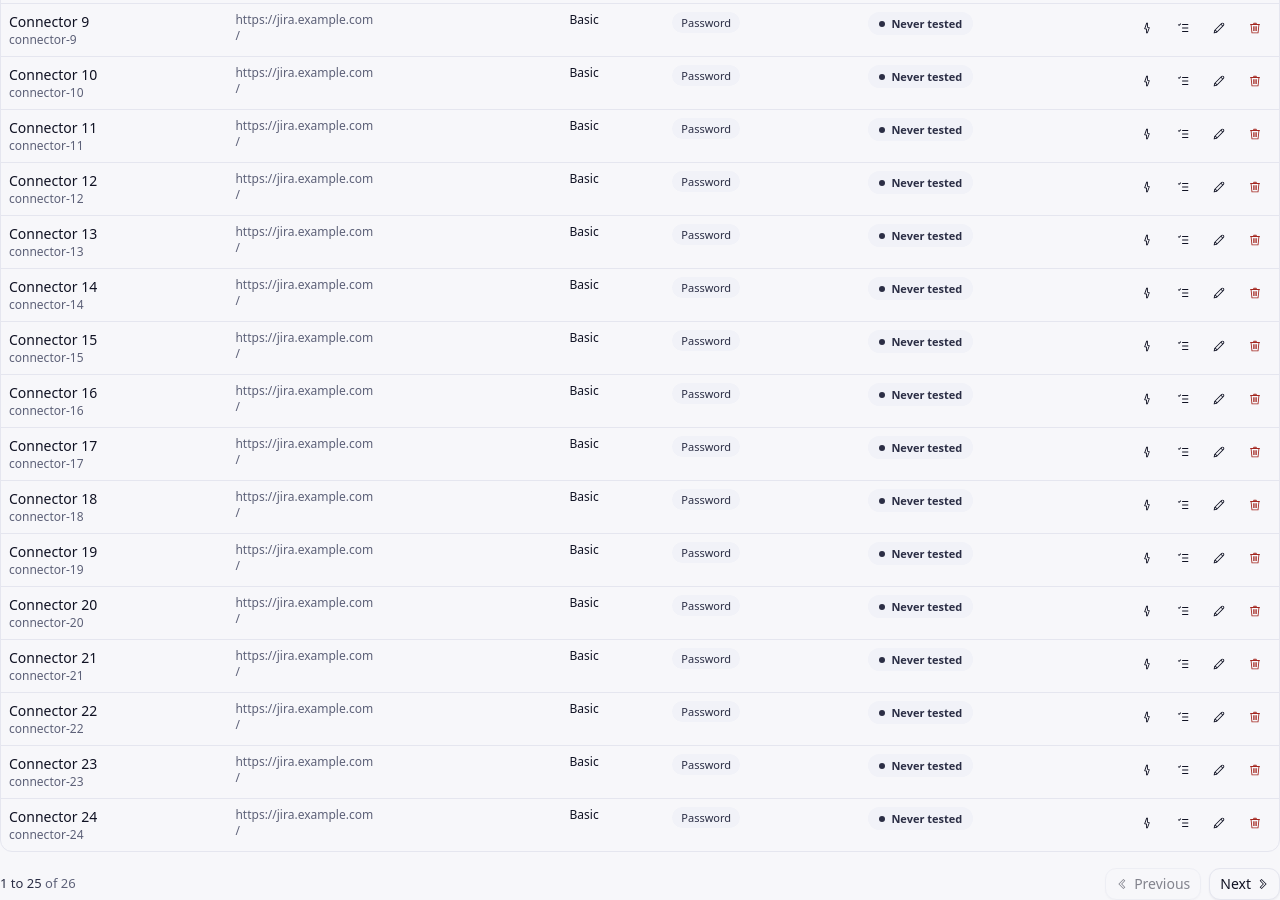
it: the list › steps back a page after deleting the only row on a later page
(page scrolled)
Click the button "Next". click: (1245, 884)
box: [1209,868,1279,899]
(page scrolled)
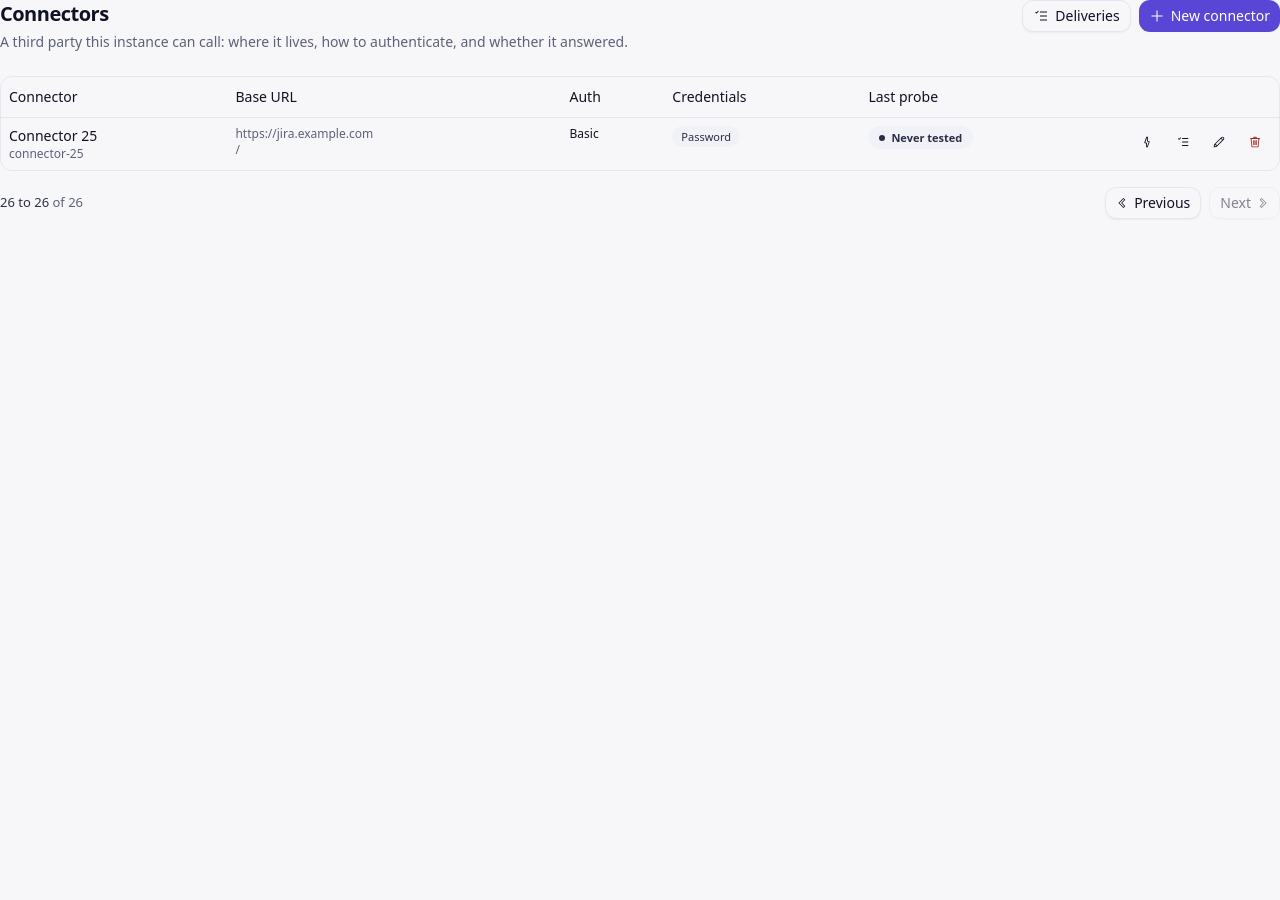
Click the button named "Delete Connector 25". click: (1255, 142)
box: [1239,126,1271,158]
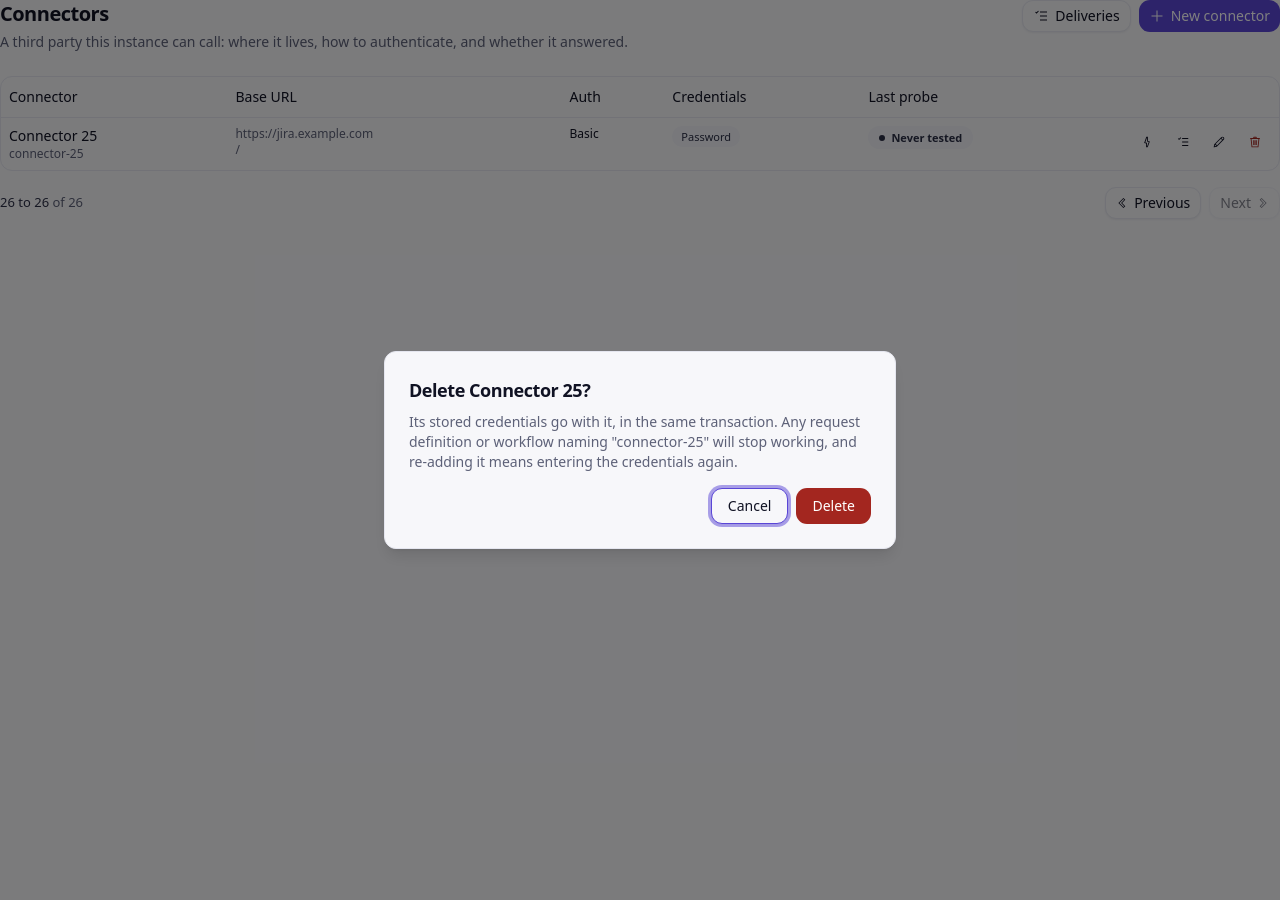
Click the button "Delete". click: (834, 506)
box: [796,488,871,524]
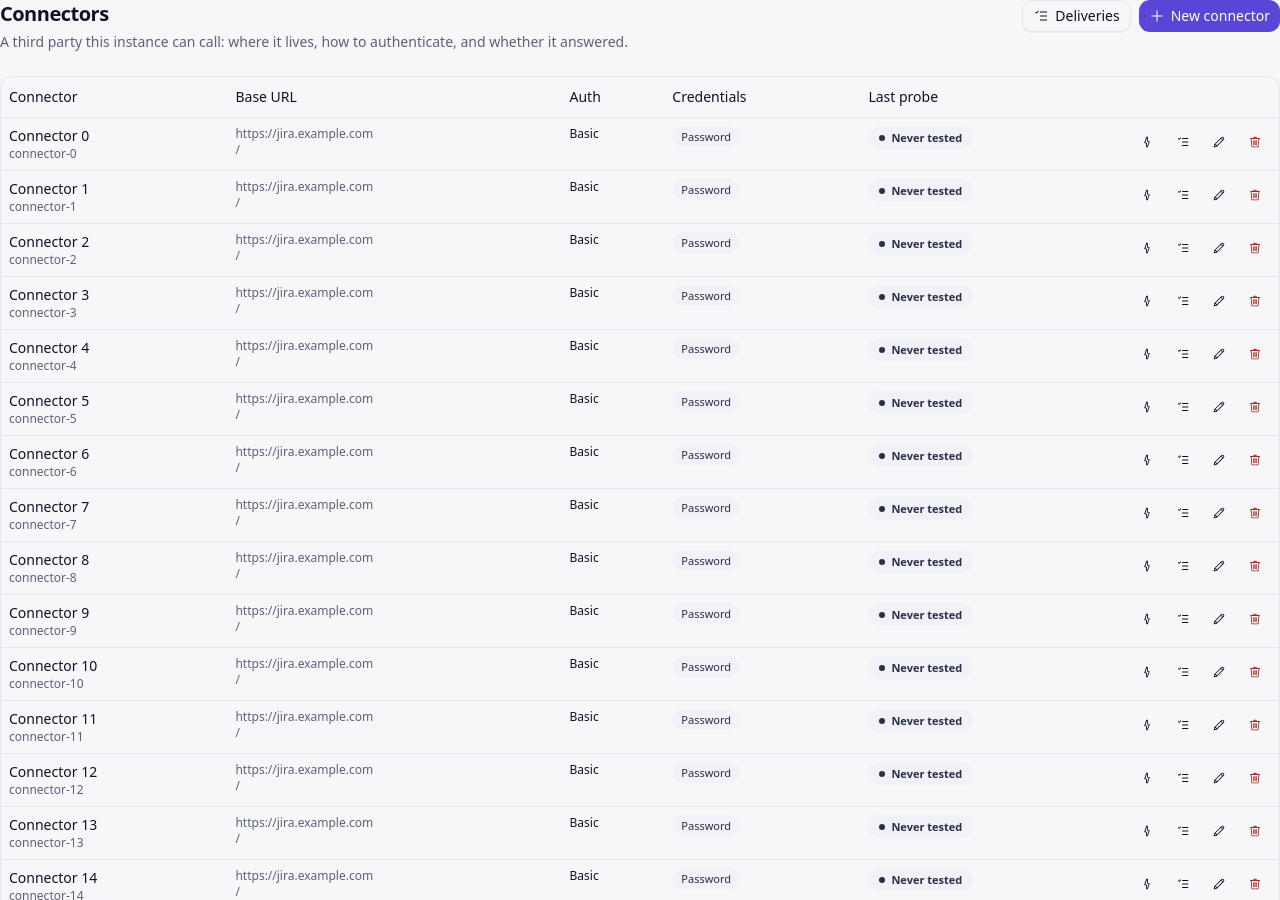
Now the text "Connector 0" is shown, box [9,126,89,144]
